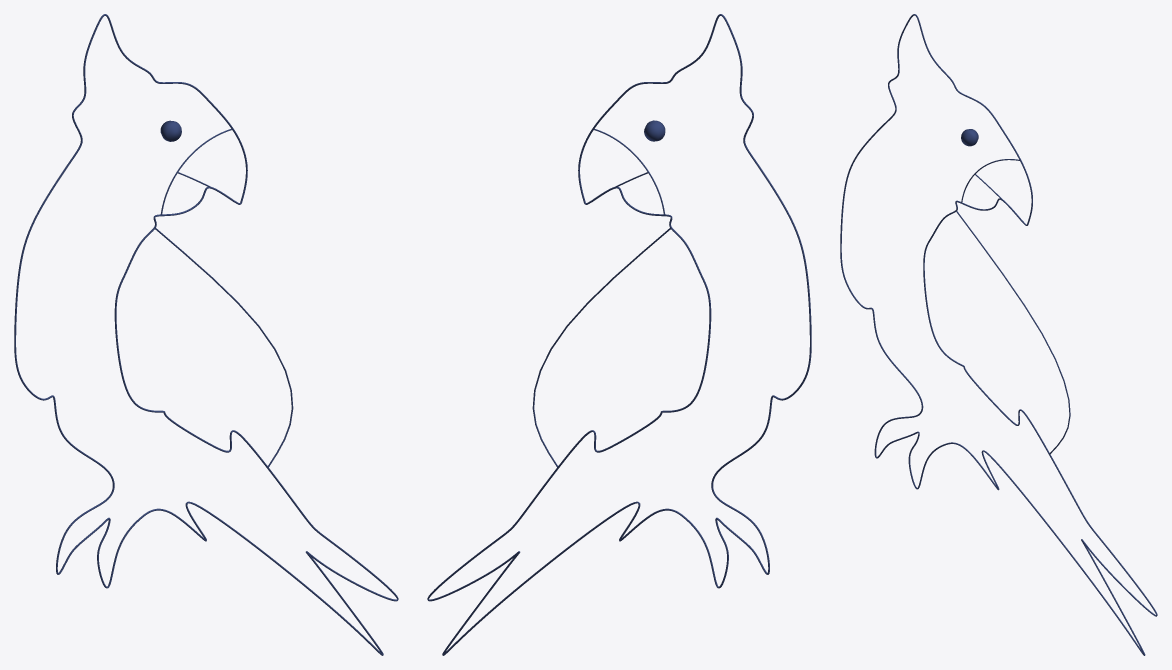
The model's file is pappagallo_neon2.fbx.
The picture shows the model from 3 angles, left to right: view 1: azimuth 30°, elevation 25°; view 2: azimuth 150°, elevation 25°; view 3: azimuth 330°, elevation 25°; orthographic projection. The views are drawn at different scales.
Parts seen in each view (by area): view 1: pCylinder6; view 2: pCylinder6; view 3: pCylinder6.
Boxes of the visible parts, x1,y1,x2,y2 form: pCylinder6: (14, 14, 398, 655); pCylinder6: (427, 14, 811, 655); pCylinder6: (840, 14, 1157, 655).
Size of the model in its own units: 11.67 by 20.58 by 0.4926.
